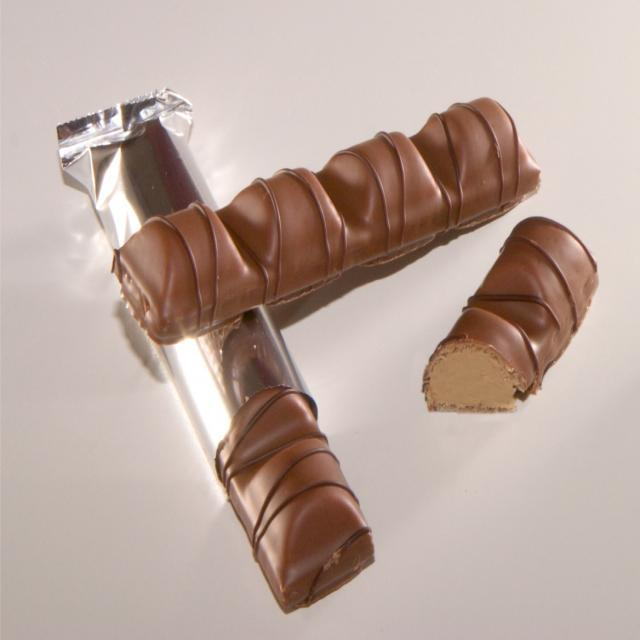Chocolate bar packaged: (103, 96, 545, 346), (422, 214, 606, 418)
